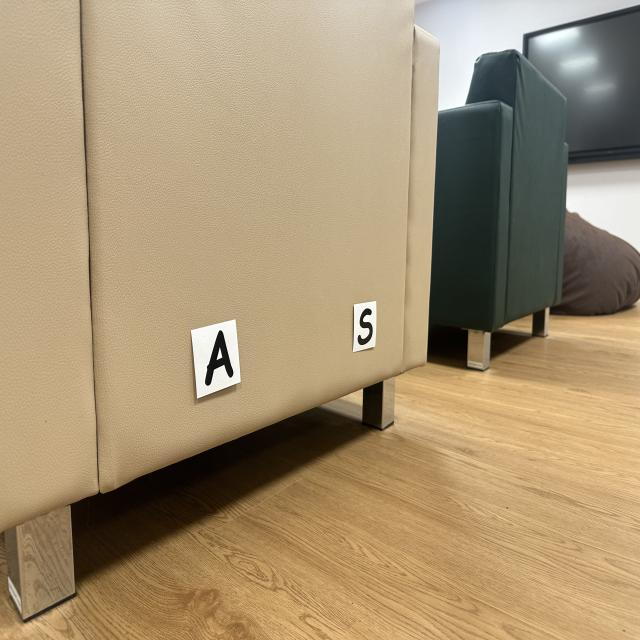A: (205, 330, 234, 385)
S: (358, 308, 372, 345)
